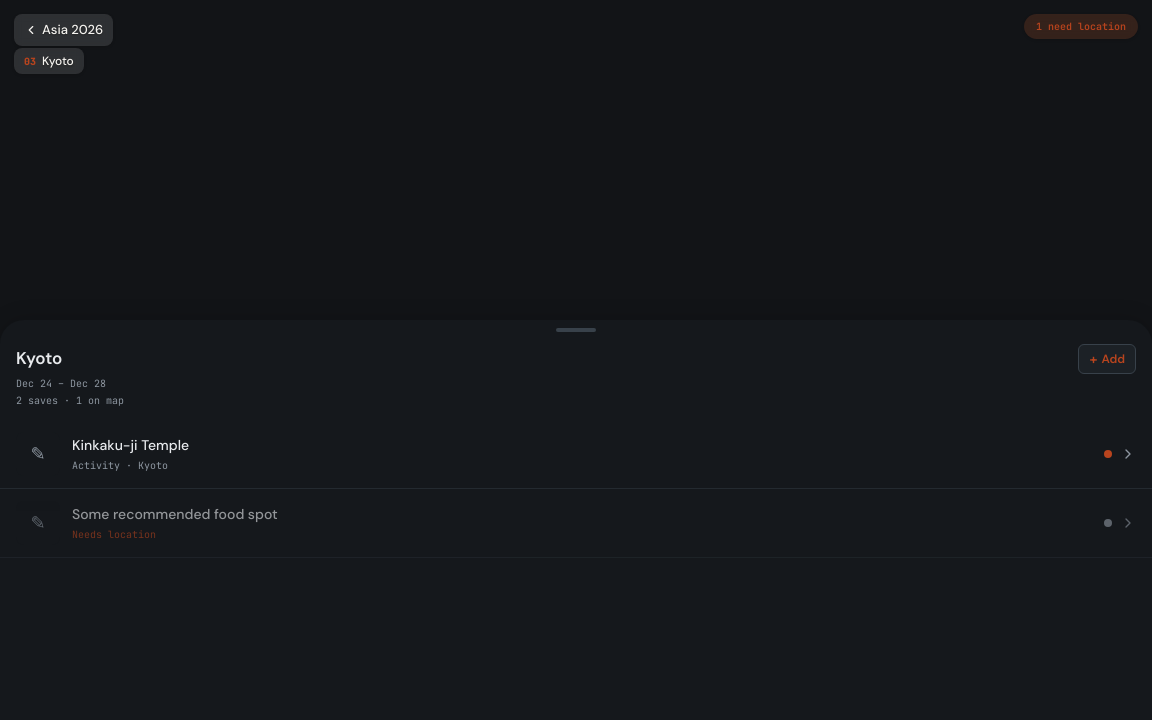
Test: DestinationMapView › tapping "needs location" pill filters sheet to non-precise items only
The width and height of the screenshot is (1152, 720).
Expected: the element with test id "sheet-item-precise-1" is shown, [0,420,1151,489]
Expected: the element with test id "sheet-item-city-1" is shown, [0,489,1151,558]
// Tap the pill to filter
Click the button with test id "needs-location-pill".
click(1081, 26)  # box [1024,14,1138,39]
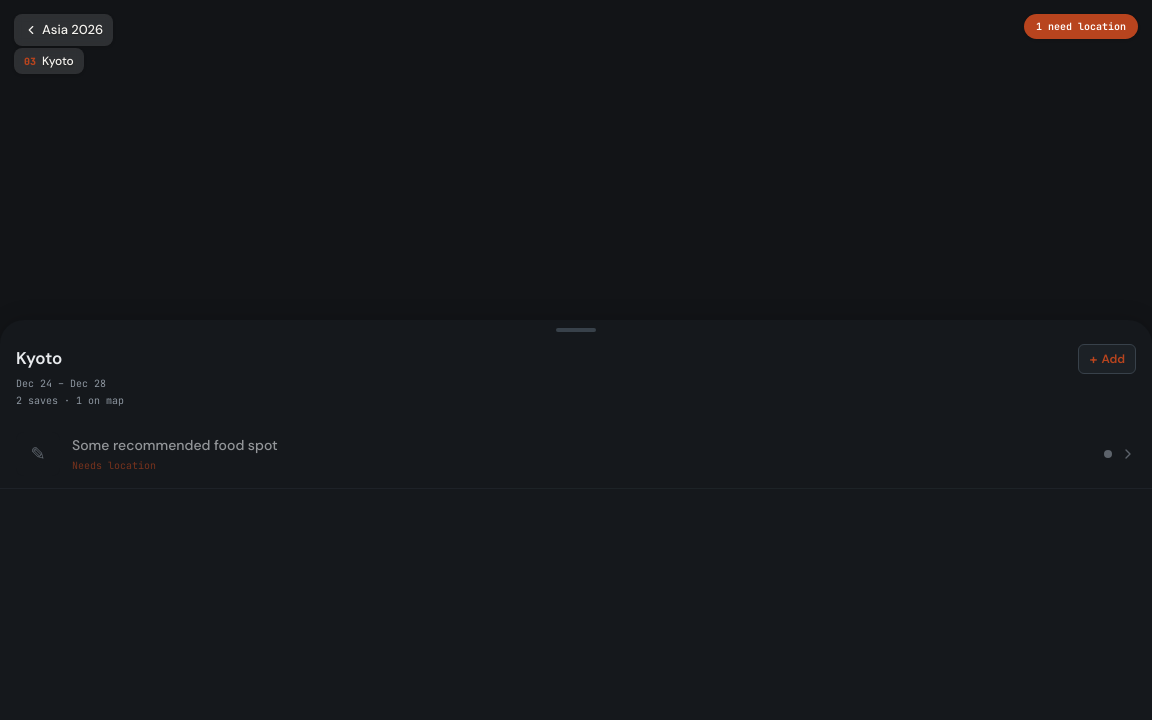
Expected: the element with test id "sheet-item-city-1" is shown, [0,420,1151,489]
Expected: the element with test id "sheet-item-precise-1" is gone
